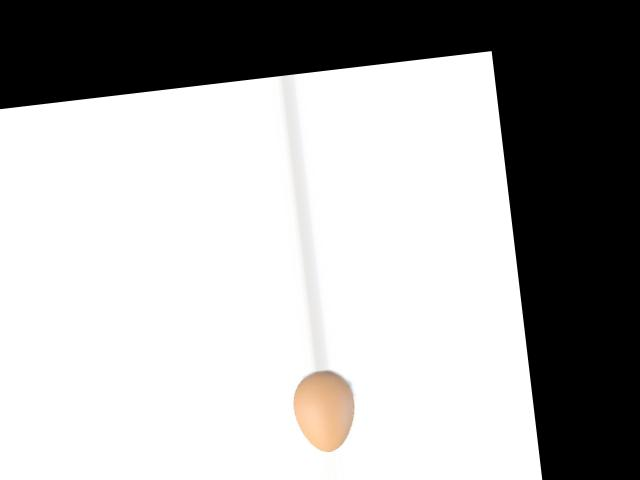egg: (290, 367, 359, 454)
